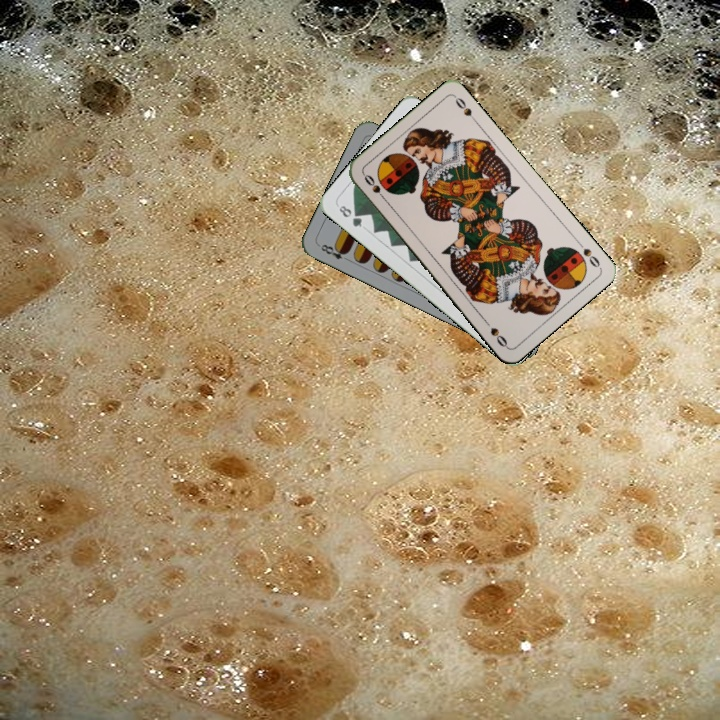E8: (315, 240, 353, 264)
G8: (335, 201, 365, 230)
SO: (360, 170, 390, 204), (573, 237, 603, 270)
